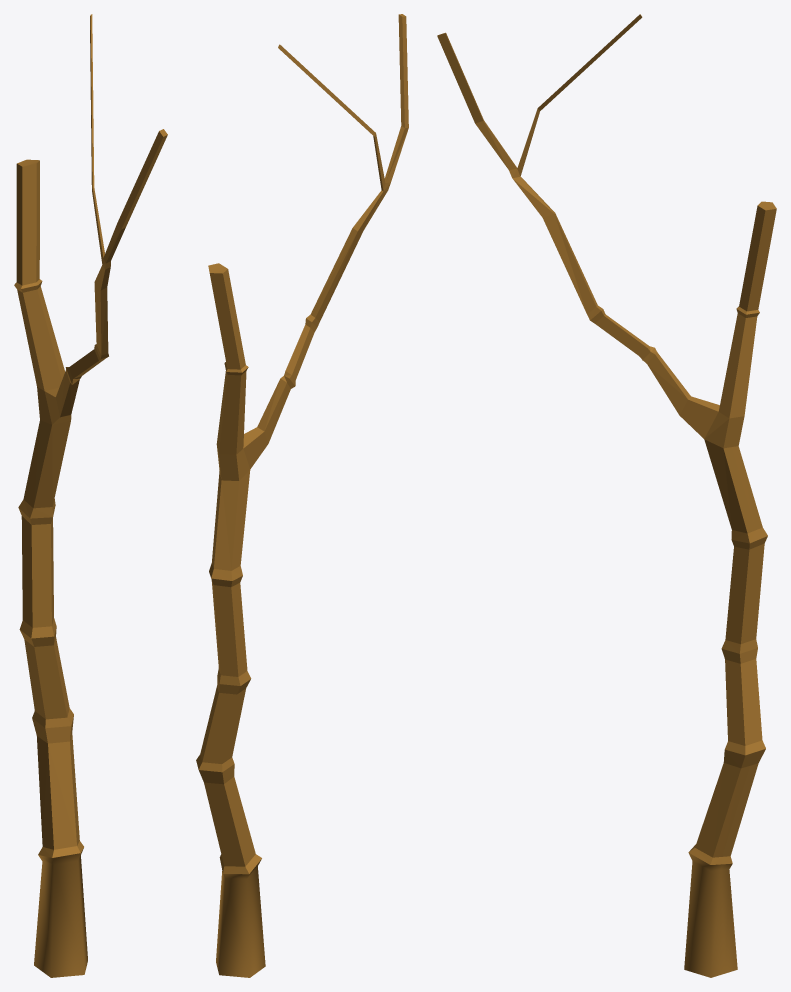
Rendered from Tree_03.FBX.
3 renders of one model, left to right at view 1: azimuth 30°, elevation 25°; view 2: azimuth 150°, elevation 25°; view 3: azimuth 270°, elevation 25°, orthographic. The views are drawn at different scales.
Parts seen in each view (by area): view 1: Cylinder003; view 2: Cylinder003; view 3: Cylinder003.
Part boxes in pixels (x1,y1,x2,y2): Cylinder003: (14,14,167,977); Cylinder003: (196,14,408,977); Cylinder003: (437,14,776,977).
Bounding box in the file's own units: 3.31 × 33.65 × 10.92.
